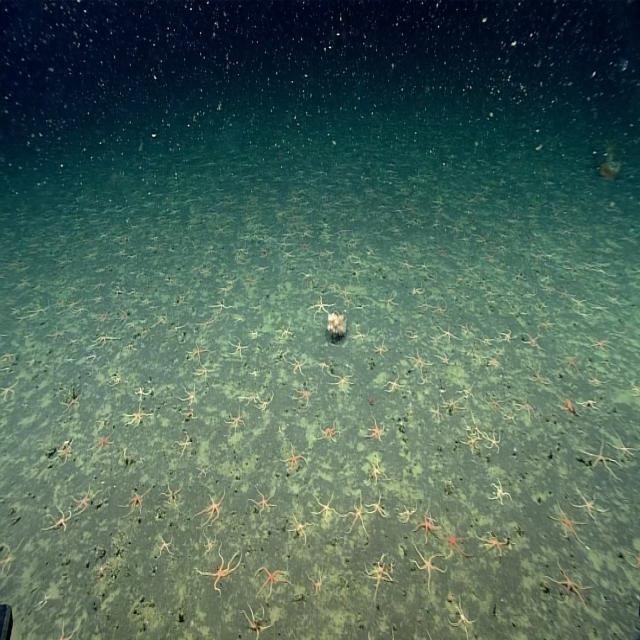brittle-stars: (548, 559, 588, 609), (197, 551, 241, 593), (254, 562, 288, 608), (410, 542, 446, 582), (193, 488, 228, 526), (549, 504, 581, 544), (448, 593, 473, 638), (441, 519, 468, 560), (582, 442, 613, 477), (343, 494, 367, 539), (70, 483, 100, 518), (364, 549, 388, 589), (242, 605, 269, 640), (477, 530, 508, 560), (47, 500, 72, 536), (575, 490, 605, 520), (416, 503, 438, 540), (313, 493, 340, 523), (407, 346, 431, 379), (612, 431, 636, 464), (287, 509, 311, 542), (250, 484, 277, 512), (125, 401, 154, 427), (315, 420, 342, 447), (124, 485, 148, 515), (306, 564, 329, 594), (369, 494, 390, 524), (282, 446, 307, 471), (363, 415, 385, 443), (484, 423, 502, 456), (154, 530, 173, 561), (489, 476, 509, 505), (292, 382, 315, 407), (560, 352, 582, 378), (332, 371, 353, 396), (398, 498, 418, 524), (368, 455, 386, 483), (438, 323, 460, 345), (442, 393, 463, 416), (226, 407, 246, 431), (186, 340, 206, 364), (92, 432, 116, 452), (0, 379, 19, 404), (309, 298, 332, 318), (524, 330, 544, 352), (372, 334, 388, 360), (91, 332, 117, 347), (278, 320, 294, 344), (386, 372, 402, 396), (134, 382, 154, 401), (214, 298, 232, 319), (233, 340, 247, 365), (463, 428, 478, 451), (59, 440, 74, 463), (591, 337, 610, 355), (181, 384, 198, 404), (290, 354, 306, 374), (194, 363, 214, 379), (579, 394, 597, 411), (175, 432, 192, 450), (498, 326, 514, 345), (380, 293, 399, 309), (433, 298, 448, 318), (435, 350, 452, 367), (432, 400, 444, 423), (258, 393, 274, 410), (194, 462, 208, 481), (351, 327, 369, 341), (48, 328, 65, 342), (116, 306, 130, 323), (110, 370, 122, 388), (0, 350, 16, 363), (318, 357, 331, 372), (339, 284, 352, 296)
